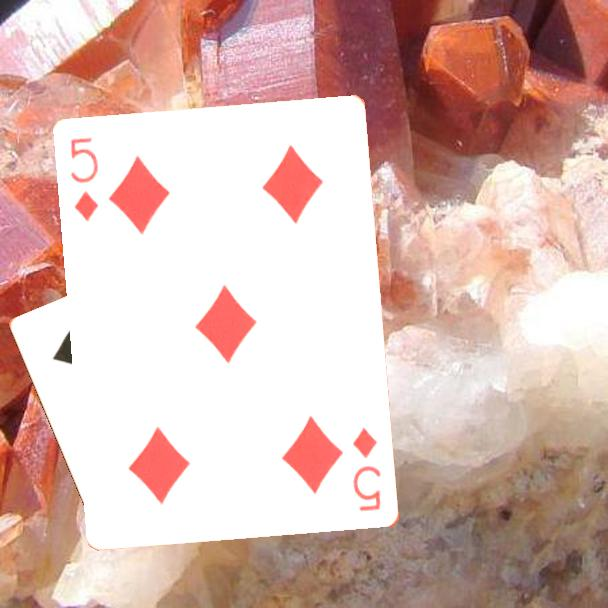d05: (350, 424, 385, 515), (67, 134, 102, 225)
